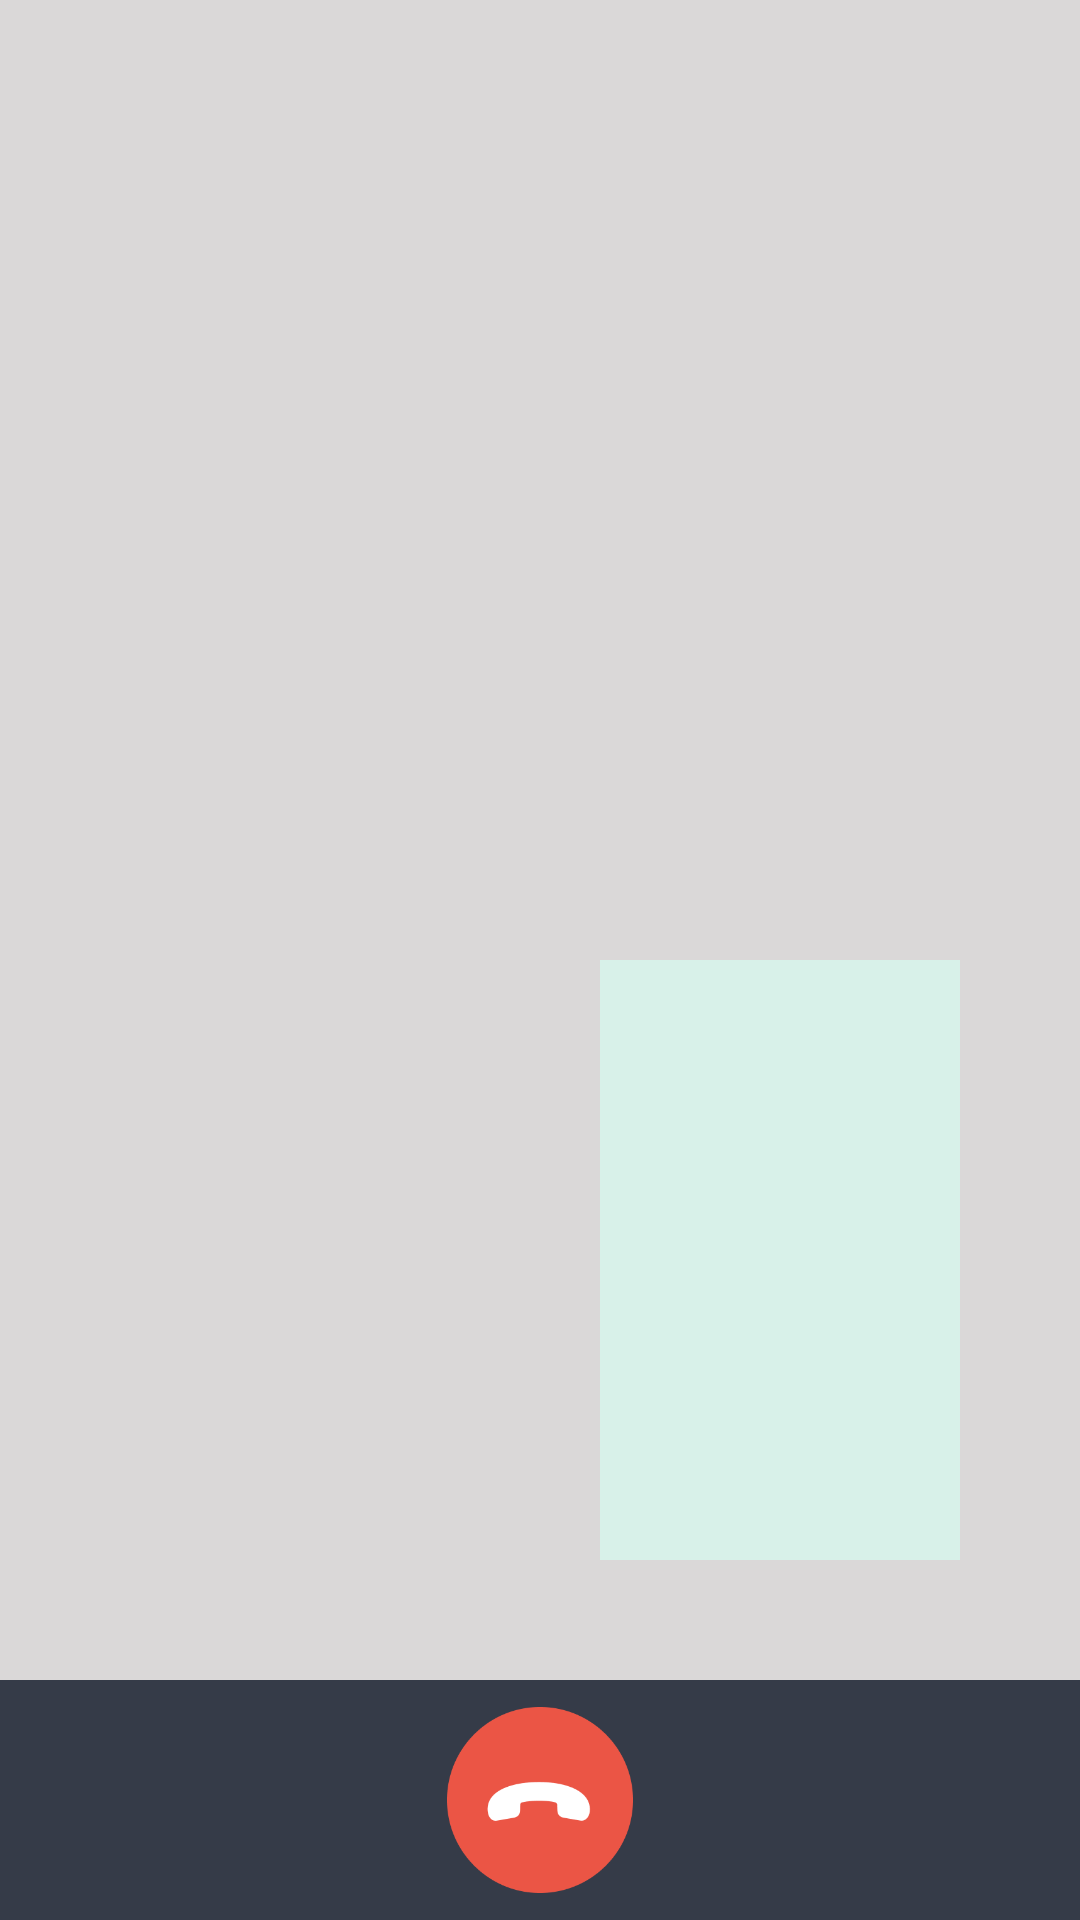

Icons on this 1080px×1920px Android screen, each with the point to tap as (x,y):
decline: (540,1800)
